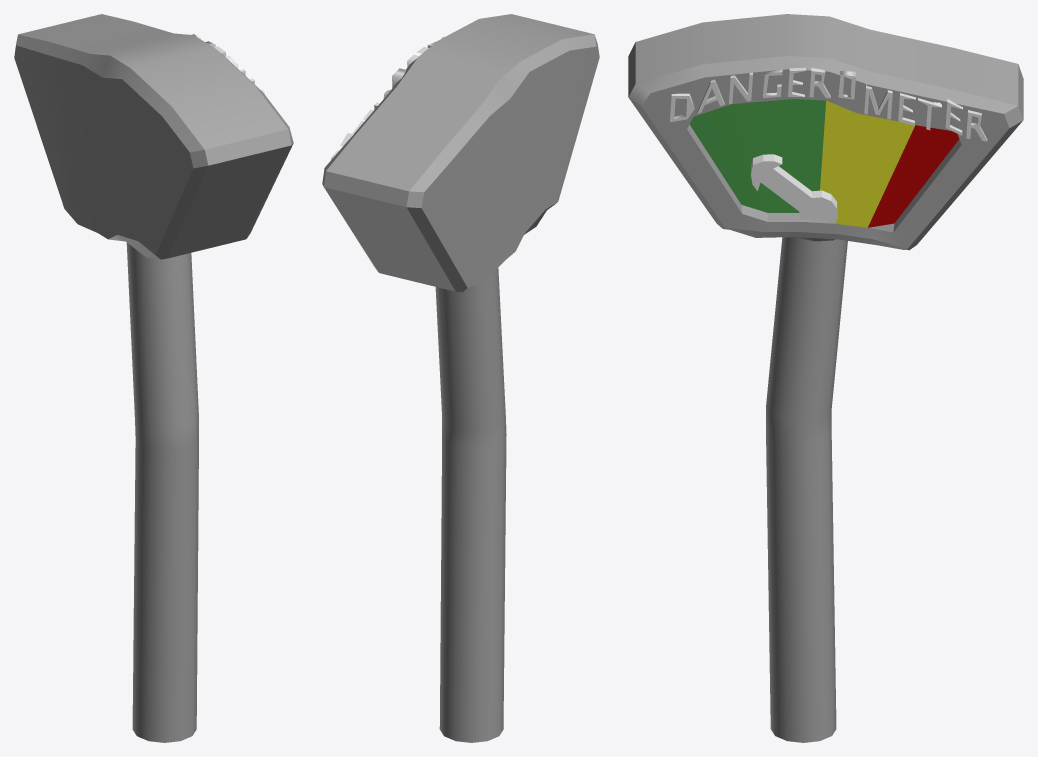
File: Dangerometer.fbx
3 renders of one model, left to right at view 1: azimuth 30°, elevation 25°; view 2: azimuth 150°, elevation 25°; view 3: azimuth 270°, elevation 25°, orthographic. The views are drawn at different scales.
Visible parts, largest first — view 1: Body; view 2: Body; view 3: Body, Pointer.
Part boxes in pixels (box(x1,y1,x2,y2)): Body: box(14, 14, 293, 742); Body: box(322, 14, 599, 742); Body: box(628, 14, 1023, 742); Pointer: box(751, 154, 837, 223).
Size of the model in its own units: 9.98 by 61.52 by 31.73.
